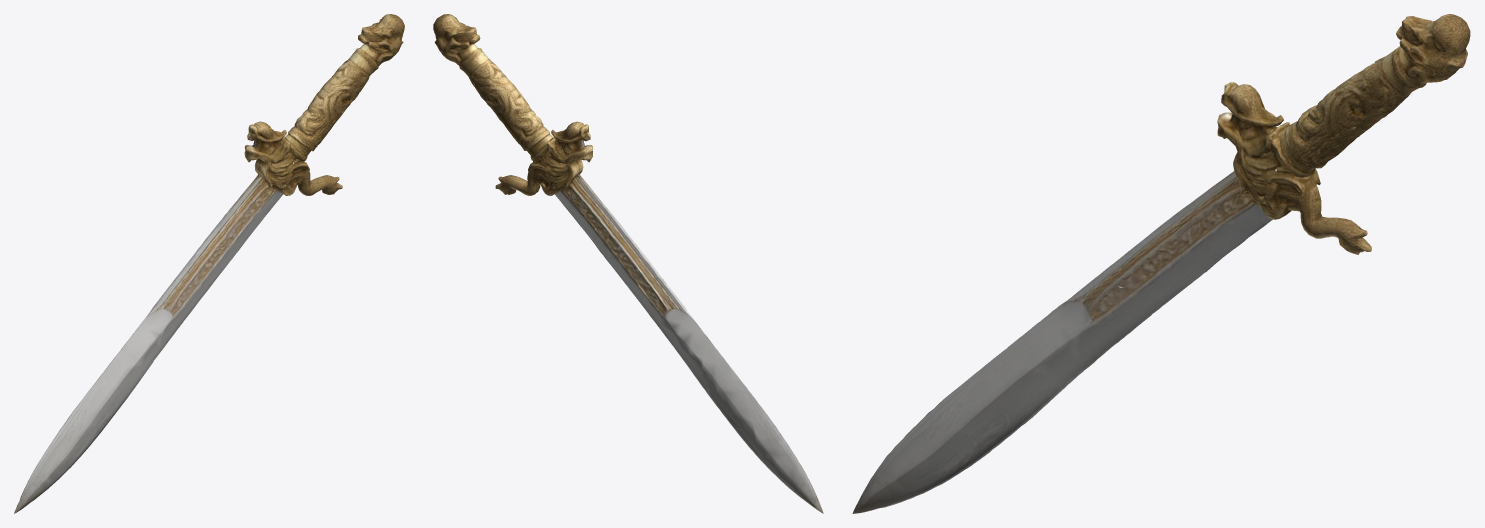
File: wp_thuanthien.glb
The picture shows the model from 3 angles, left to right: view 1: azimuth 30°, elevation 25°; view 2: azimuth 150°, elevation 25°; view 3: azimuth 330°, elevation 25°; orthographic projection. The views are drawn at different scales.
Parts seen in each view (by area): view 1: geom0; view 2: geom0; view 3: geom0.
Boxes of the visible parts, x1,y1,x2,y2 form: geom0: (14,14,404,513); geom0: (433,14,823,513); geom0: (852,14,1470,513).
Bounding box in the file's own units: 1 × 0.9996 × 0.0713.
Materials: 1 (1 with a texture image).
